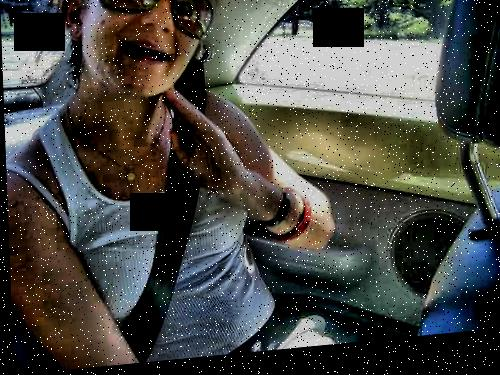seatbelt: (105, 41, 232, 332)
